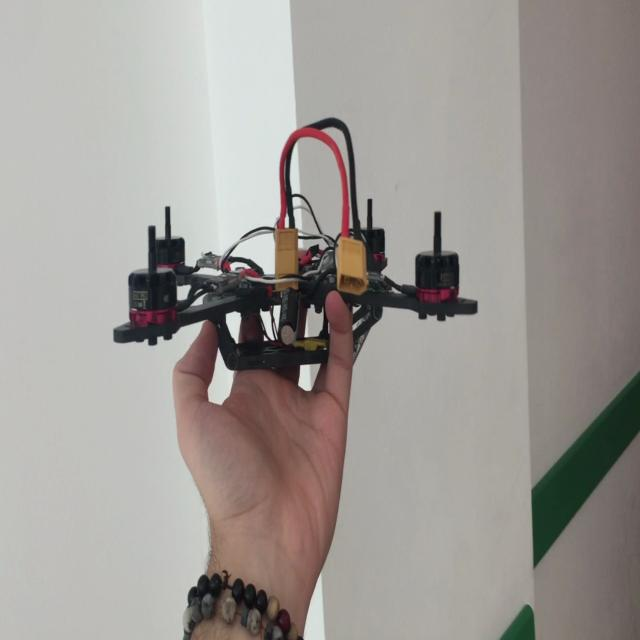drone: (112, 181, 488, 391)
